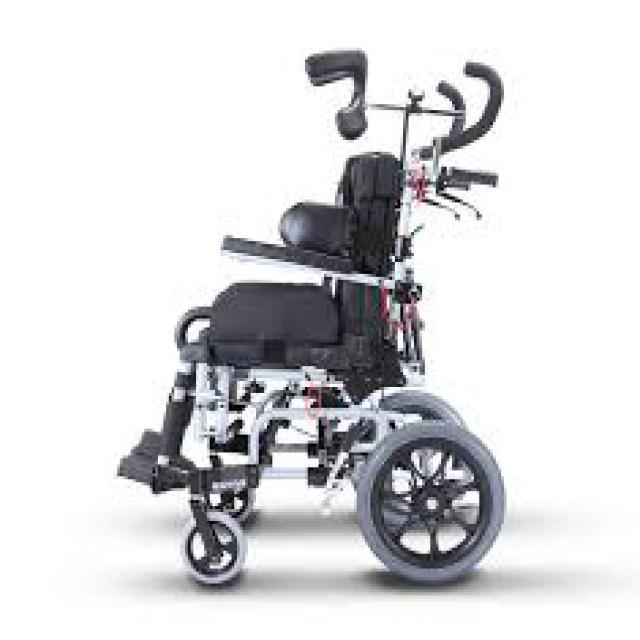wheelchair: (111, 32, 536, 622)
